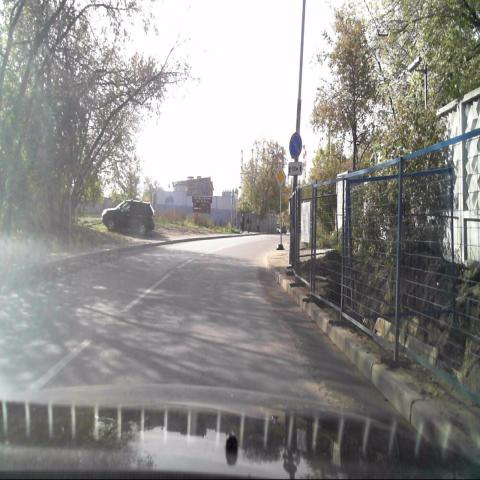3_28: (288, 130, 302, 159)
